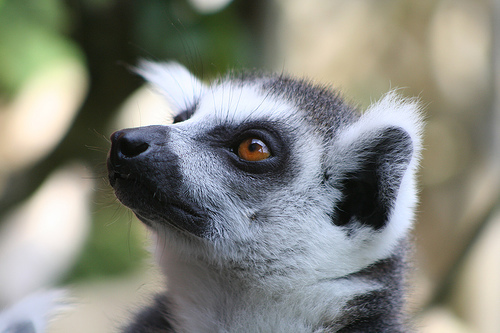cat: (105, 53, 427, 332)
